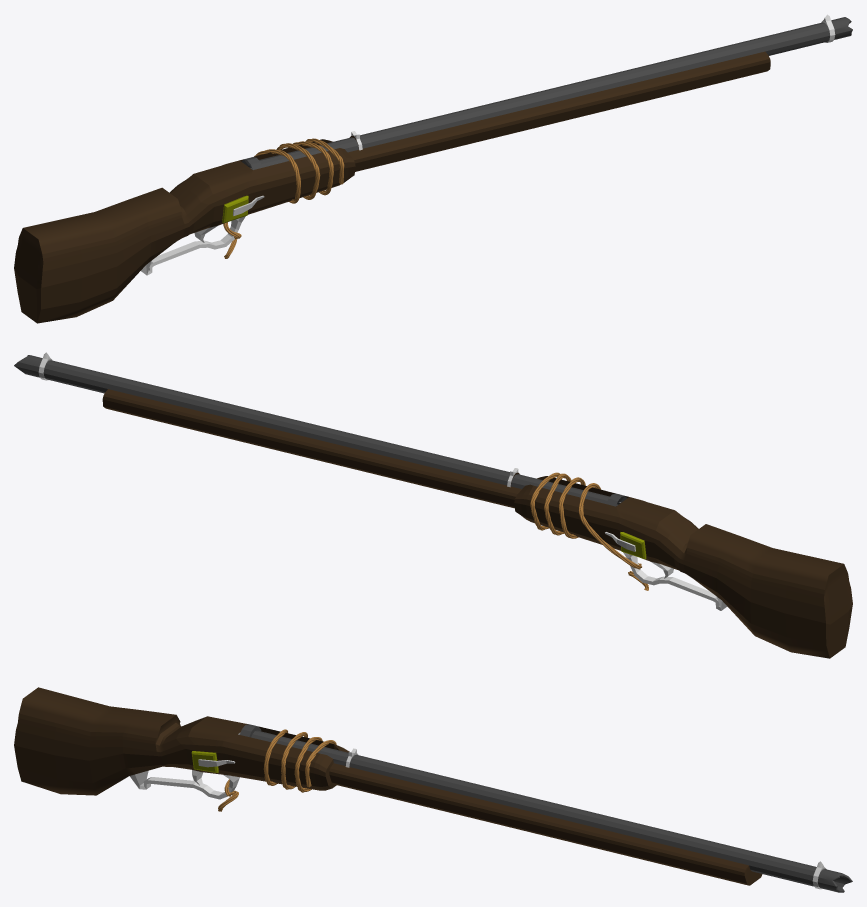
The model's file is mousquet.fbx.
The picture shows the model from 3 angles, top to bottom: view 1: azimuth 30°, elevation 25°; view 2: azimuth 150°, elevation 25°; view 3: azimuth 330°, elevation 25°; orthographic projection.
Parts seen in each view (by area): view 1: polySurface14, polySurface15, polySurface11; view 2: polySurface14, polySurface15, polySurface11; view 3: polySurface14, polySurface15, polySurface11.
Boxes of the visible parts, <box> form: polySurface14: <box>240,14,852,214</box>; polySurface15: <box>14,160,264,323</box>; polySurface11: <box>223,138,344,258</box>; polySurface14: <box>14,352,628,550</box>; polySurface15: <box>605,497,852,658</box>; polySurface11: <box>530,472,648,590</box>; polySurface14: <box>222,724,852,892</box>; polySurface15: <box>14,687,247,799</box>; polySurface11: <box>218,729,336,811</box>.
Bounding box in the file's own units: 5.82 × 0.7509 × 0.422.
